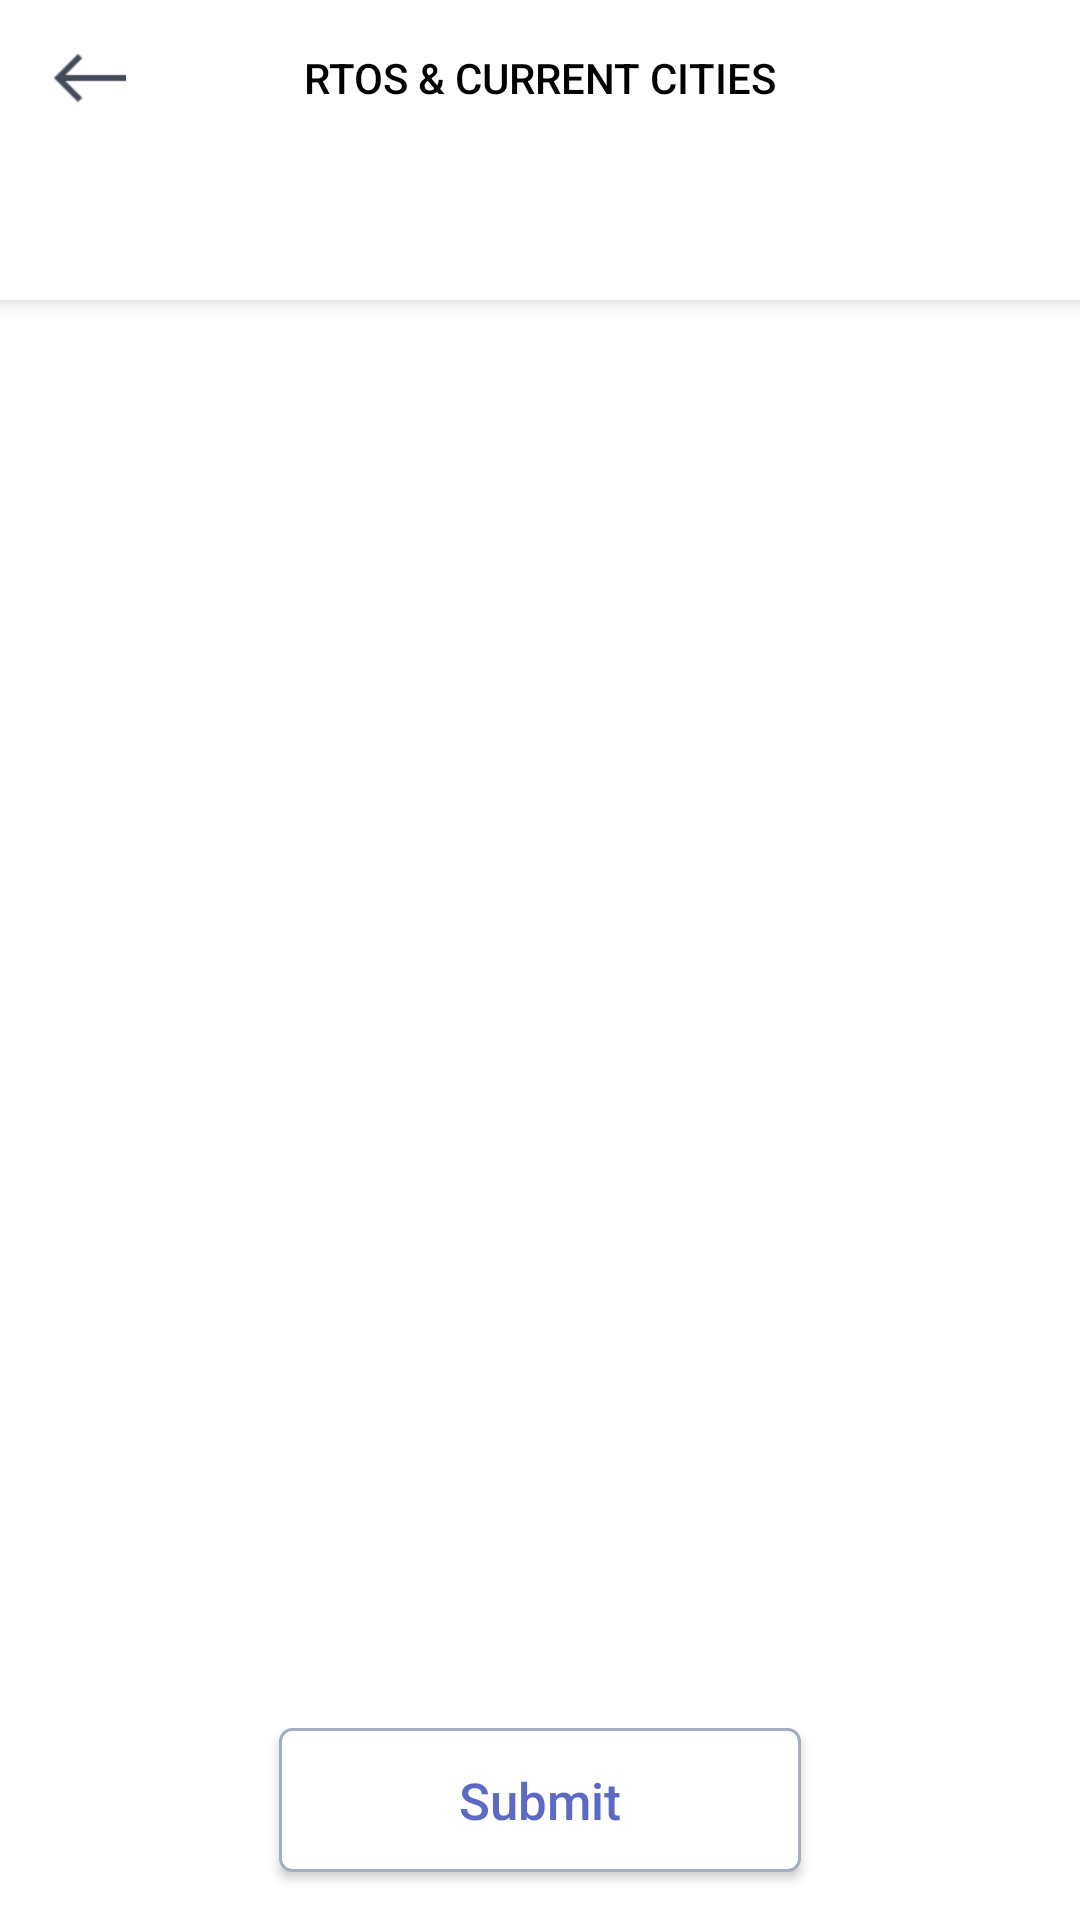

Point at icon controls on the screen. Image size 1080*1920, points as (x,y).
back: (90,78)
